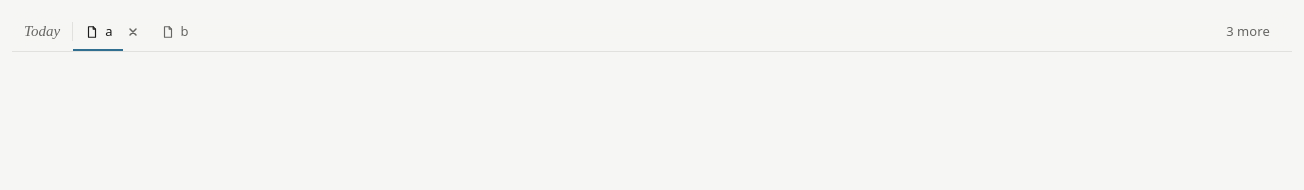
Test case: TabStrip › I6 N more opens a list of the hidden tabs, and a pick selects that tab and closes the list
Step 1. Click the button "3 more" → (1248, 32), box [1204,12,1292,51]
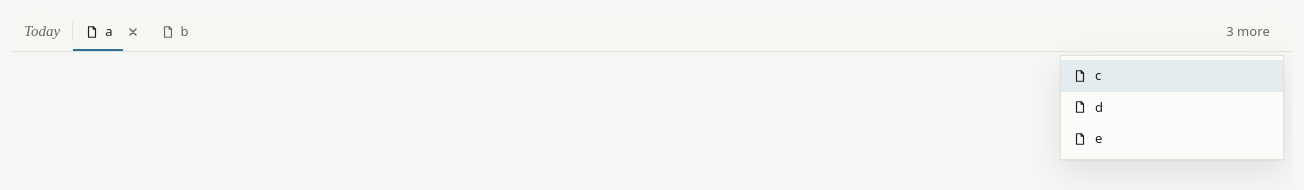
Check: the menu items read "c", "d", "e", in this order
Step 2. Click the menu item "d" → (1172, 107), box [1061,92,1283,123]
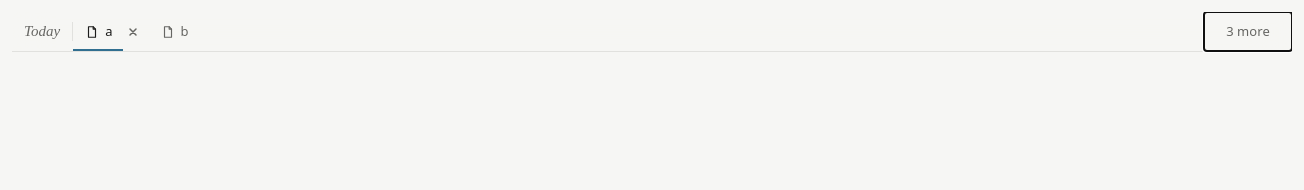
Check: the menu is gone
